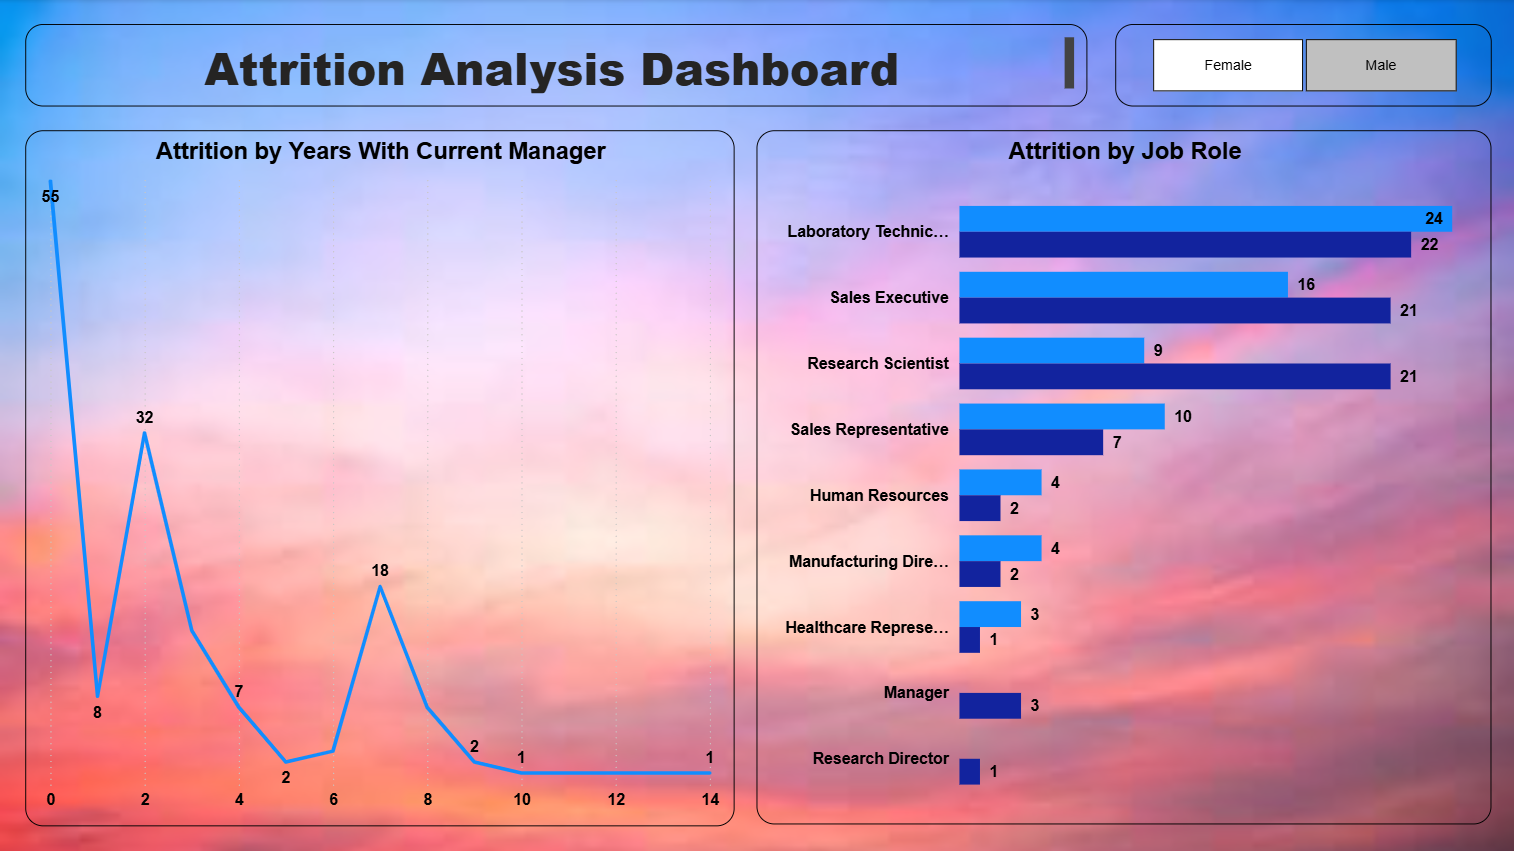

The dashboard page shown, as its layout file describes it:
{"tool":"powerbi","page":{"name":"Dashboard_3","canvas":[1280,720],"ordinal":2},"visuals":[{"type":"lineChart","title":"Attrition by Years With Current Manager","fields":{"Category":["Attrition.YearsWithCurrManager"],"Y":["CountNonNull(Attrition.Attrition)"]},"box":[22,111.1,598.3,587.3],"z":0},{"type":"clusteredBarChart","title":"Attrition by Job Role","fields":{"Category":["Attrition.JobRole"],"Y":["CountNonNull(Attrition.Attrition)"],"Series":["Attrition.OverTime"]},"box":[639.5,111.1,620.2,585.9],"z":1000},{"type":"slicer","fields":{"Values":["Attrition.Gender"]},"box":[941.9,20.9,317.4,69.8],"z":2000},{"type":"textbox","box":[22,20.6,896.1,70],"z":3000}]}

Visuals, with their boxes in screenshot pixels (x1, y1, x2, y2), scaled from the page's 1280x720 canvas onto the 1514x851 screenshot:
"Attrition by Years With Current Manager" lineChart: select_region(26, 131, 734, 825)
"Attrition by Job Role" clusteredBarChart: select_region(756, 131, 1490, 824)
slicer - Attrition.Gender: select_region(1114, 25, 1490, 107)
textbox: select_region(26, 24, 1086, 107)
